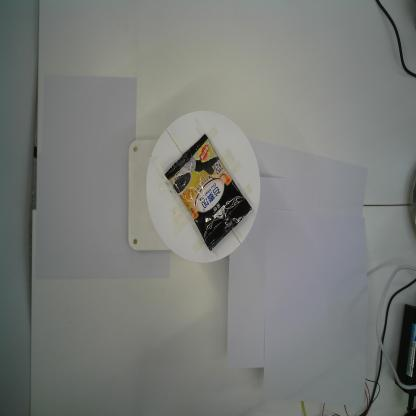Instant Drink: (164, 133, 253, 253)
